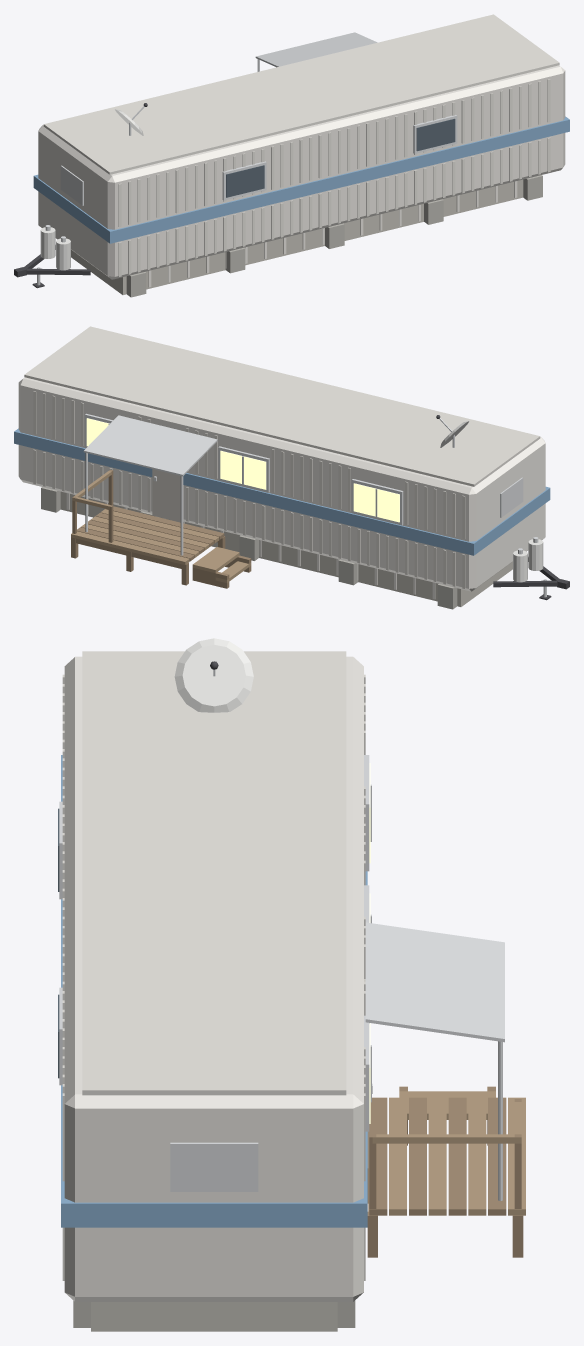
The model's file is town_trailer.glb.
The picture shows the model from 3 angles, top to bottom: view 1: azimuth 30°, elevation 25°; view 2: azimuth 150°, elevation 25°; view 3: azimuth 270°, elevation 25°; orthographic projection. The views are drawn at different scales.
Visible parts, largest first — view 1: tv_trailer_mesh; view 2: tv_trailer_mesh; view 3: tv_trailer_mesh.
Boxes of the visible parts, left/top/right/bottom form: tv_trailer_mesh: left=14, top=14, right=569, bottom=297; tv_trailer_mesh: left=14, top=326, right=569, bottom=609; tv_trailer_mesh: left=58, top=638, right=525, bottom=1331.
Bounding box in the file's own units: 13.53 × 3.94 × 5.32.
